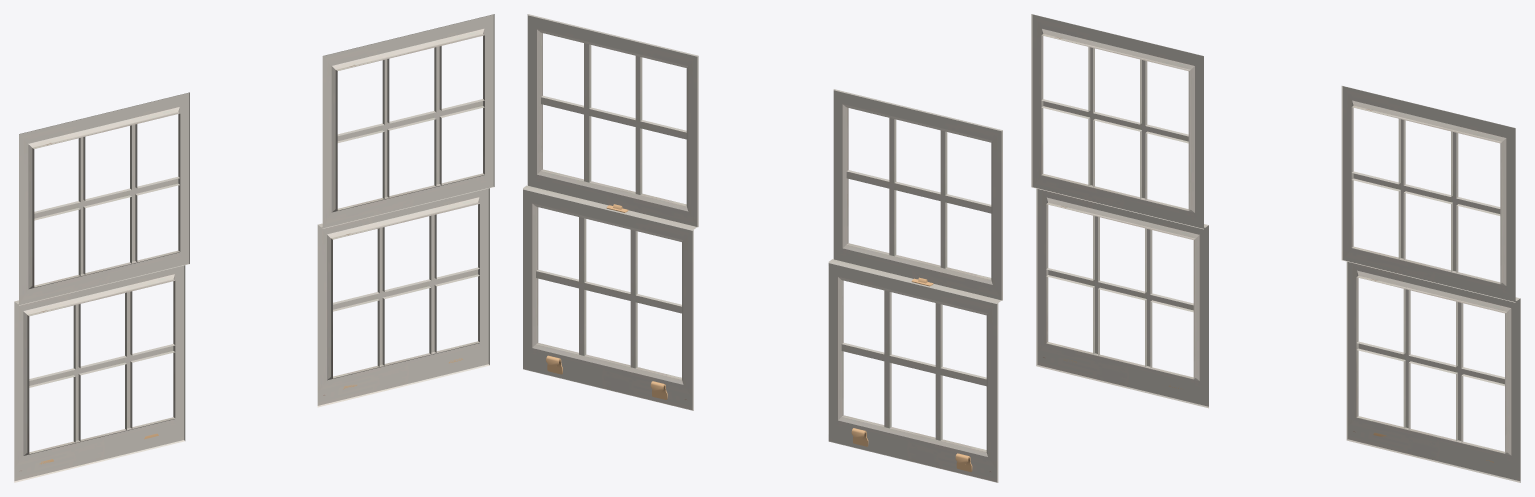
File: Ventanas_2_H1.obj
3 renders of one model, left to right at view 1: azimuth 30°, elevation 25°; view 2: azimuth 150°, elevation 25°; view 3: azimuth 330°, elevation 25°, orthographic.
Visible parts, largest first — view 1: Ventanas_2_H1; view 2: Ventanas_2_H1; view 3: Ventanas_2_H1.
Part boxes in pixels (left/top/right/bottom): Ventanas_2_H1: left=14, top=14, right=494, bottom=482; Ventanas_2_H1: left=523, top=14, right=1002, bottom=482; Ventanas_2_H1: left=1031, top=14, right=1520, bottom=482.
Size of the model in its own units: 1.63 by 1.16 by 0.0788.
1 material, 1 textured.
